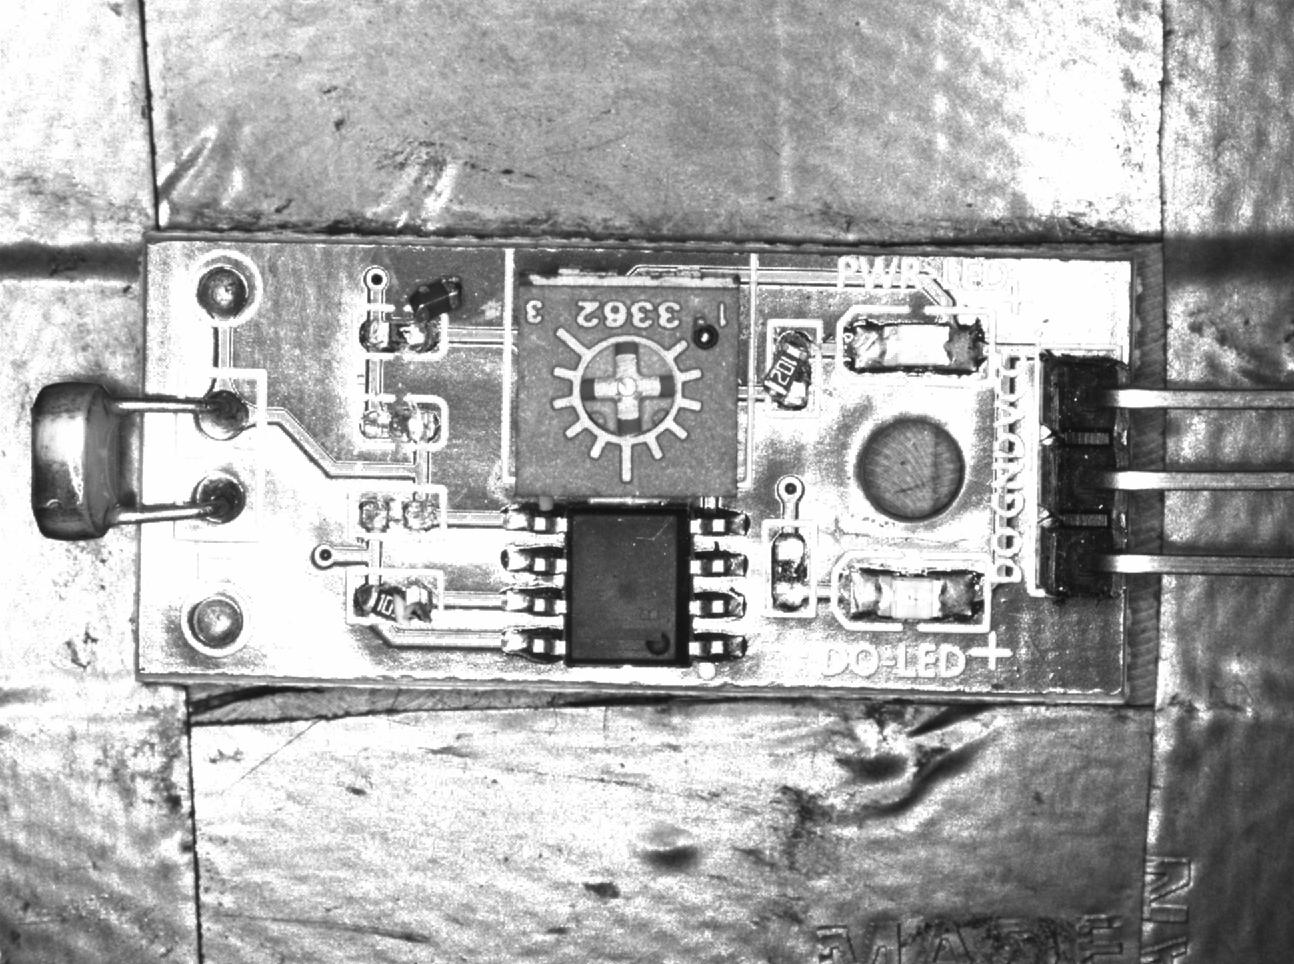lifted: (341, 568, 444, 632), (760, 321, 819, 414)
miss: (353, 304, 449, 360), (349, 489, 448, 542), (350, 395, 444, 447)
ok: (758, 519, 816, 621)
